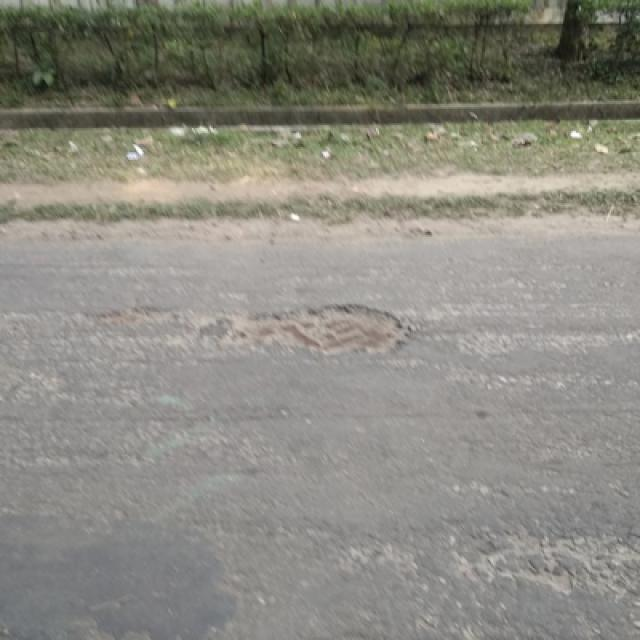objects: (191, 305, 402, 353)
